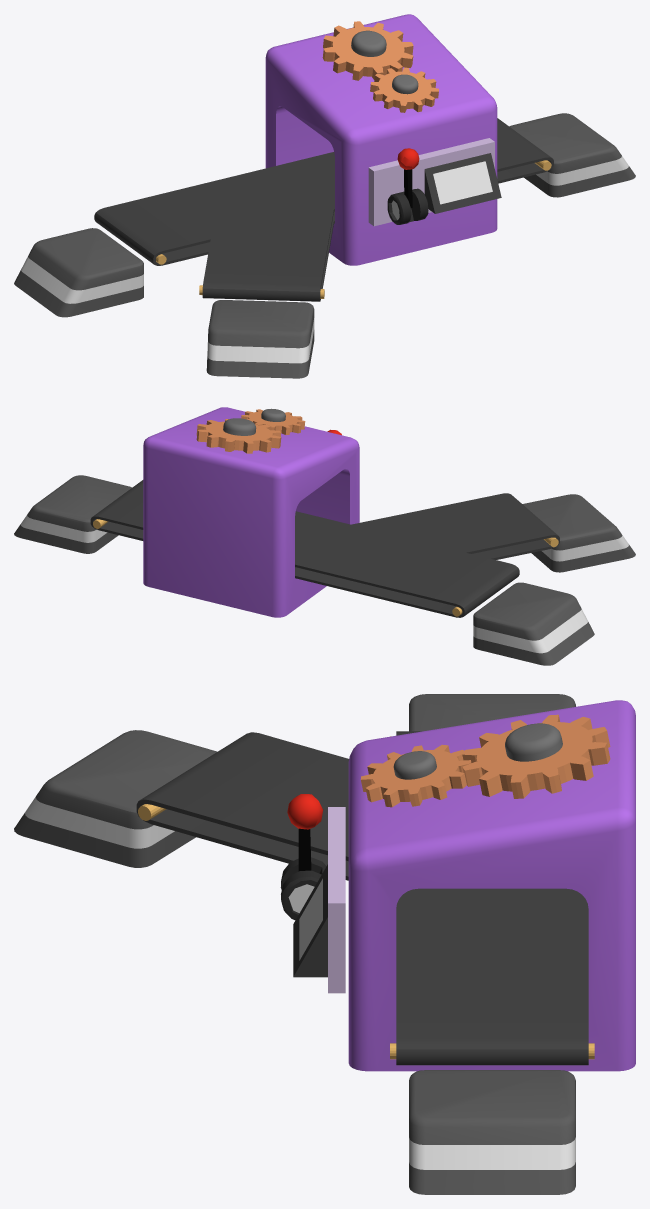
File: makina6-barbie.fbx
The picture shows the model from 3 angles, top to bottom: view 1: azimuth 30°, elevation 25°; view 2: azimuth 150°, elevation 25°; view 3: azimuth 270°, elevation 25°; orthographic projection. The views are drawn at different scales.
Visible parts, largest first — view 1: govde.006, palet.013, stack.011, palet.005, stack.007, cark, cark3, kol.002; view 2: govde.006, palet.013, stack.011, palet.005, stack.007, cark, cark3; view 3: govde.006, palet.013, stack.011, palet.005, stack.007, cark, cark3, kol.002.
Boxes of the visible parts, x1,y1,x2,y2 form: govde.006: (265,14,501,265); palet.013: (94,118,553,265); stack.011: (14,113,635,317); palet.005: (199,209,333,301); stack.007: (206,300,314,378); cark: (322,21,413,80); cark3: (370,67,438,112); kol.002: (397,148,419,208); govde.006: (143,407,359,617); palet.013: (90,480,519,617); stack.011: (14,475,594,665); palet.005: (351,493,559,559); stack.007: (522,494,635,572); cark: (196,418,281,453); cark3: (241,408,305,434); govde.006: (280,700,635,1071); palet.013: (390,731,594,1065); stack.011: (409,694,575,1194); palet.005: (136,732,349,880); stack.007: (14,730,217,867); cark: (462,714,610,798); cark3: (360,744,471,807); kol.002: (287,794,323,871).
Bounding box in the file's own units: 761 × 216 × 433.
